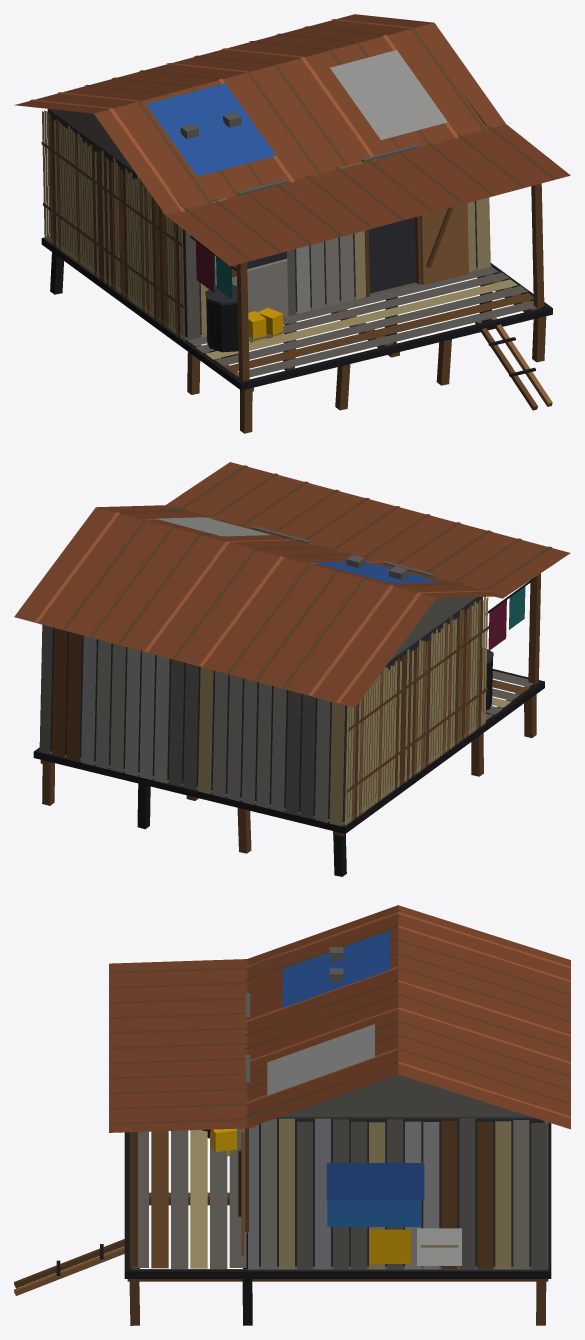
Rendered from building_makoko-house_a.glb.
3 views of the same model, one above another, from view 1: azimuth 30°, elevation 25°; view 2: azimuth 150°, elevation 25°; view 3: azimuth 270°, elevation 25° (orthographic). The views are drawn at different scales.
Visible parts, largest first — view 1: body; view 2: body; view 3: body.
Part boxes in pixels (box(x1,y1,x2,y2)): body: box(14, 14, 570, 433); body: box(14, 462, 570, 876); body: box(14, 905, 570, 1325).
Size of the model in its own units: 5.62 by 3.82 by 7.41.
